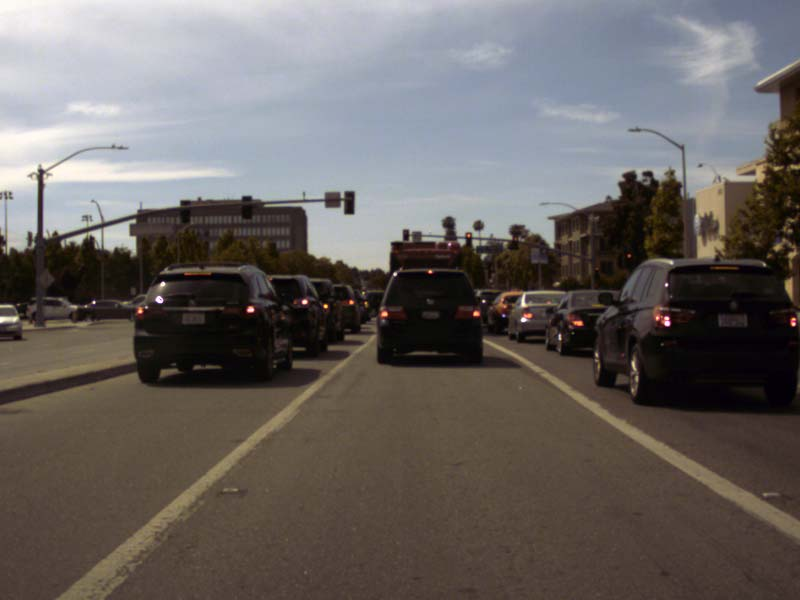Red: (625, 251, 631, 265), (466, 232, 471, 246), (513, 235, 517, 249), (594, 266, 598, 279), (403, 230, 407, 239)
